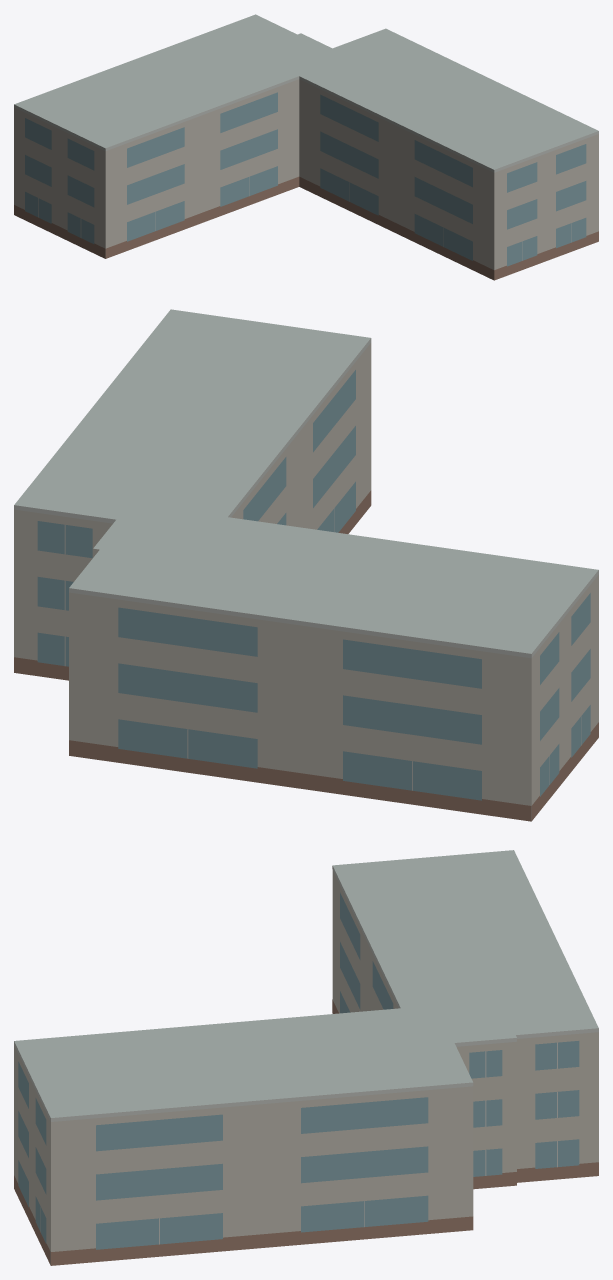
File: survey-upis-33004997.glb
3 renders of one model, top to bottom at view 1: azimuth 30°, elevation 25°; view 2: azimuth 150°, elevation 25°; view 3: azimuth 270°, elevation 25°, orthographic. The views are drawn at different scales.
Visible parts, largest first — view 1: survey-upis-33004997.tmp; view 2: survey-upis-33004997.tmp; view 3: survey-upis-33004997.tmp.
Boxes of the visible parts, bbox=[...] form: survey-upis-33004997.tmp: bbox=[14, 14, 598, 280]; survey-upis-33004997.tmp: bbox=[14, 309, 598, 821]; survey-upis-33004997.tmp: bbox=[14, 850, 598, 1265].
Size of the model in its own units: 35.62 by 9.15 by 32.84.
